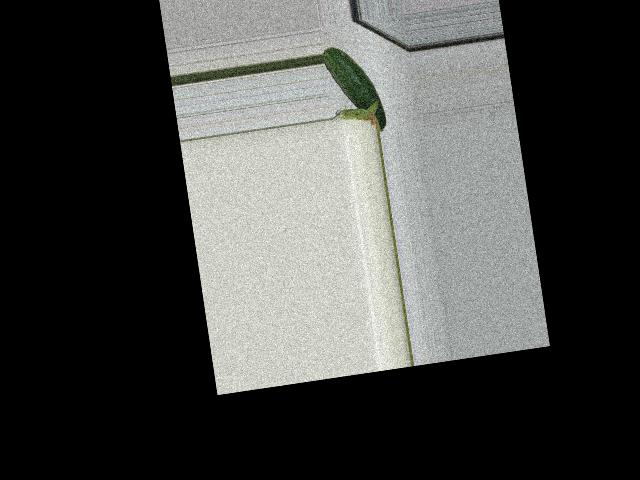cucumber: (321, 40, 387, 138)
